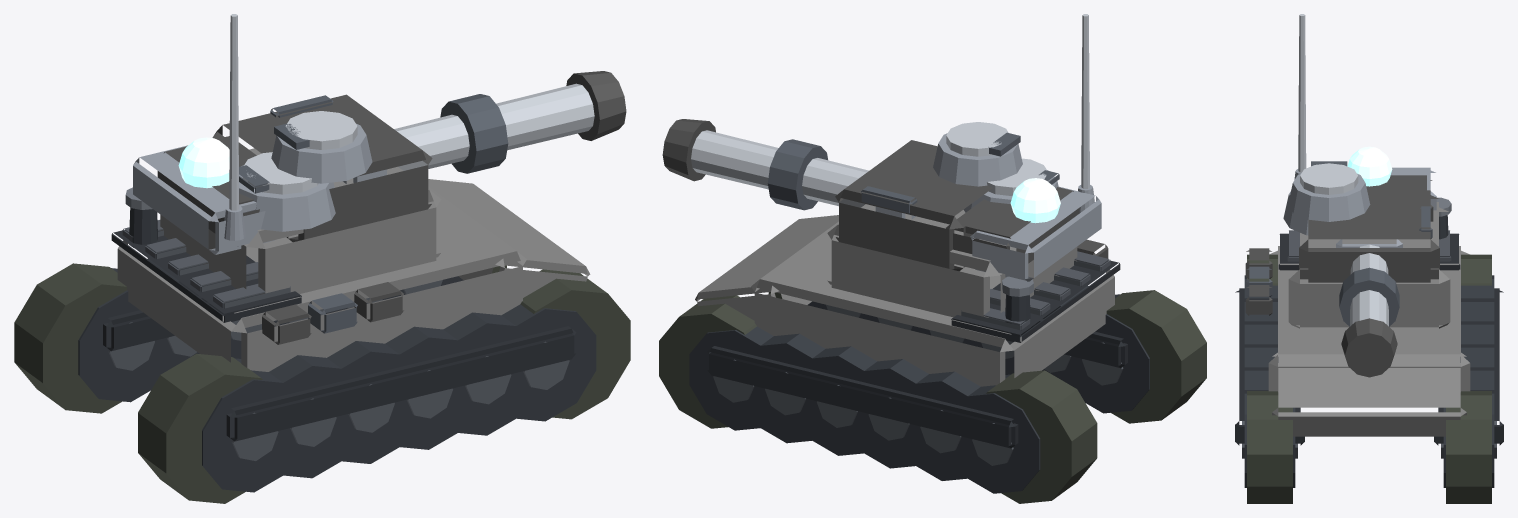
File: con_commander.glb
3 renders of one model, left to right at view 1: azimuth 30°, elevation 25°; view 2: azimuth 150°, elevation 25°; view 3: azimuth 270°, elevation 25°, orthographic. The views are drawn at different scales.
Parts seen in each view (by area): view 1: body, turret; view 2: body, turret; view 3: body, turret.
Boxes of the visible parts, box(x1,y1,x2,y2) form: body: box(14, 14, 630, 503); turret: box(157, 71, 626, 242); body: box(659, 14, 1206, 503); turret: box(662, 119, 1079, 271); body: box(1235, 14, 1503, 503); turret: box(1288, 161, 1439, 377).
Bounding box in the file's own units: 57.71 × 47.96 × 32.
